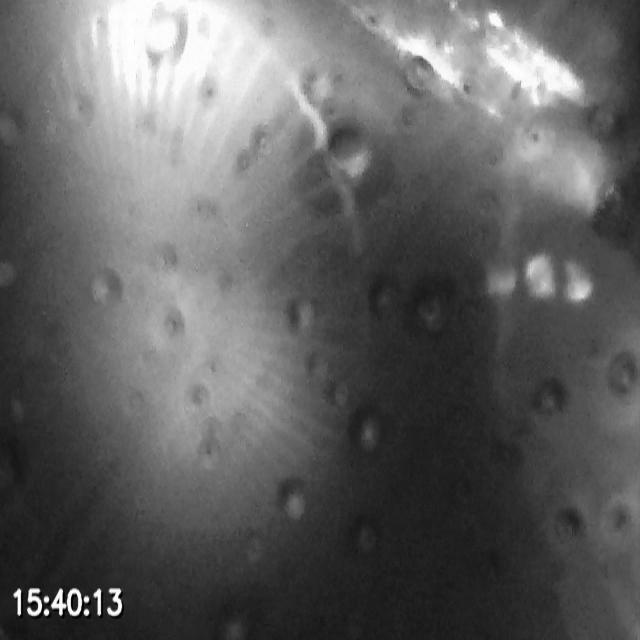white-dots: (482, 250, 594, 302)
